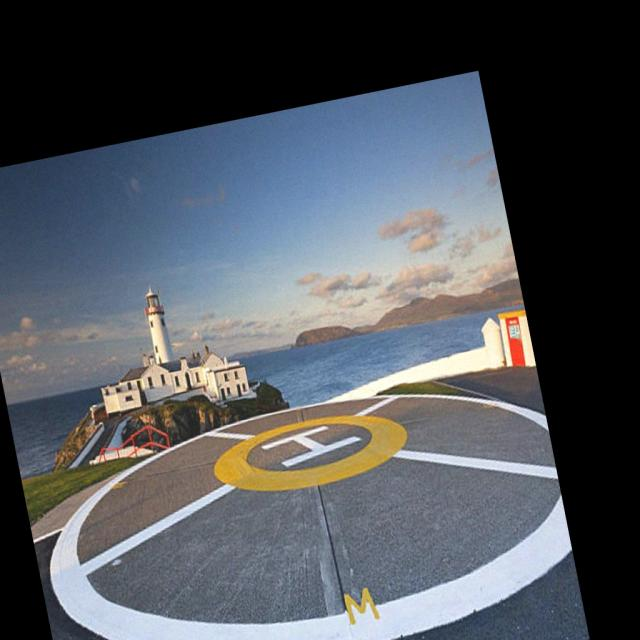helipad: (209, 410, 408, 495)
